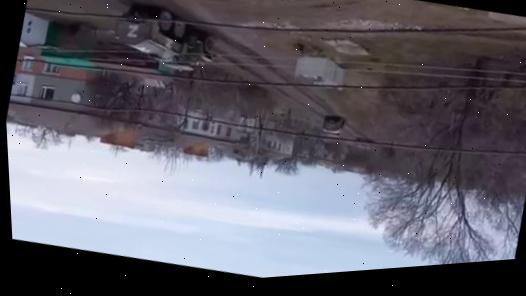truck: (106, 0, 226, 84), (320, 111, 348, 140)
